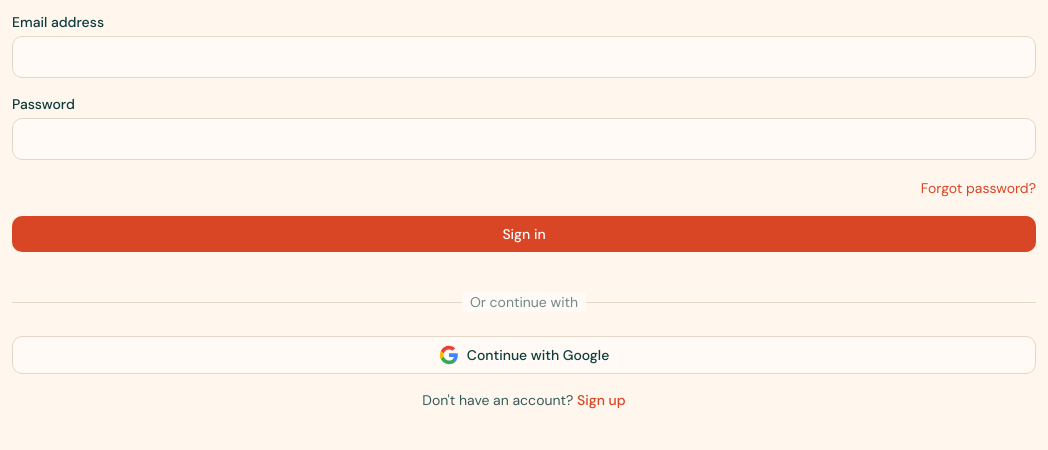
Test: components/auth/LoginForm › shows validation error for empty email
Type "Password1" into the password field labelled "Password" at coordinates (524, 139), box [12,118,1036,160]
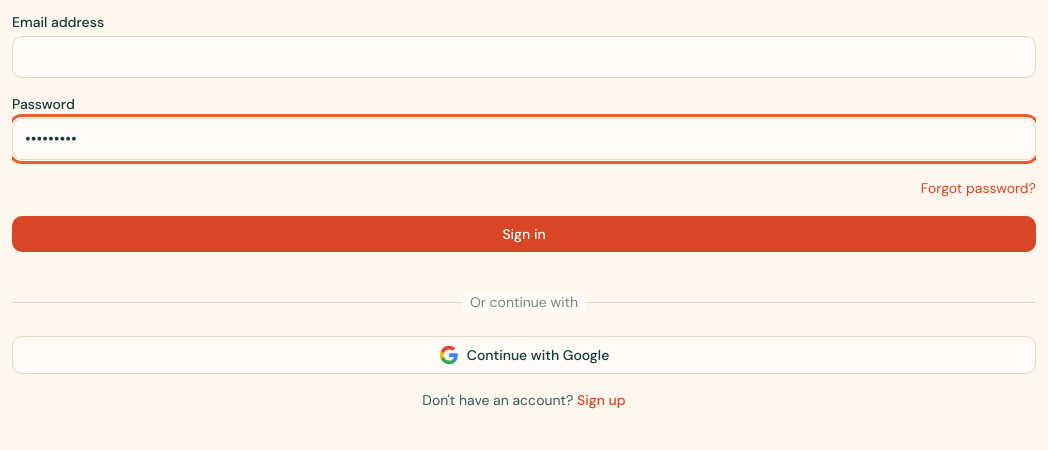
Click the button "Sign in" at coordinates (524, 234), box [12,216,1036,252]
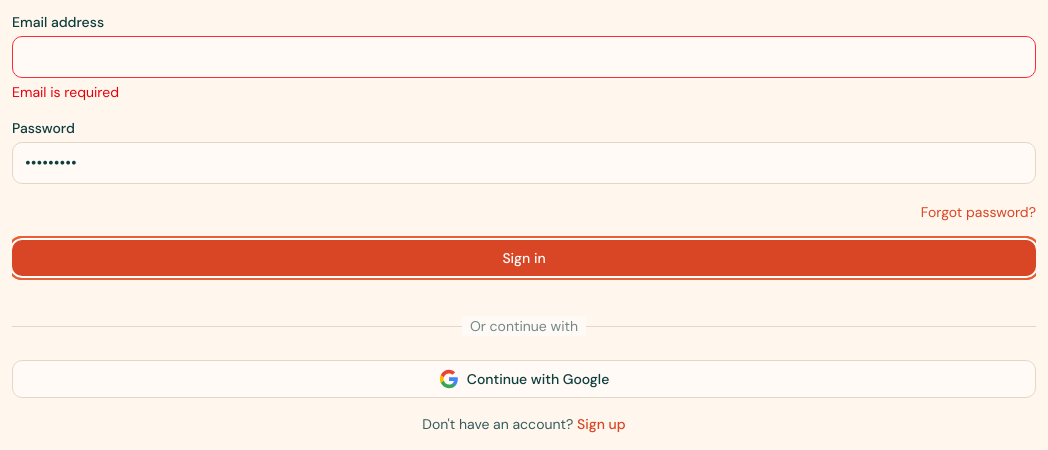
Result: the text "Email is required" is shown at [12,83,119,101]
